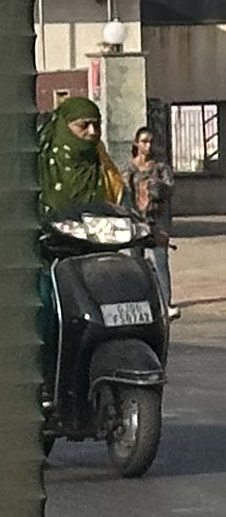BikeWithRider: (23, 87, 189, 483)
NoHelmet: (50, 90, 110, 163)
